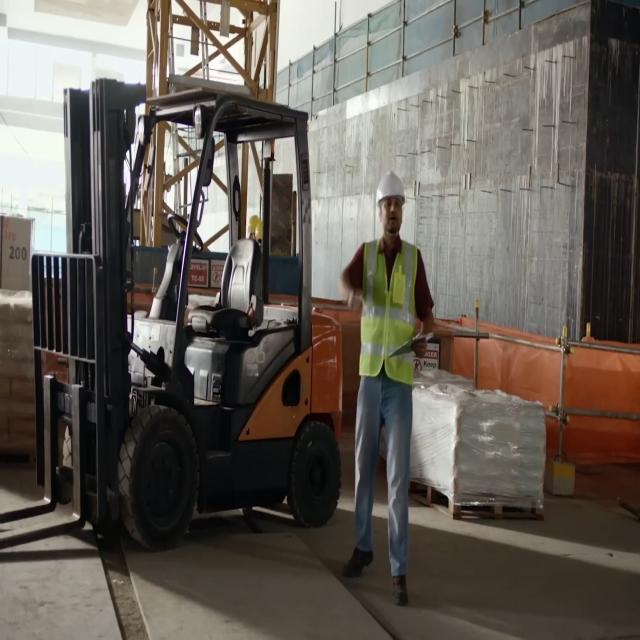Boots: (341, 542, 375, 586), (389, 560, 412, 612)
Helmet: (375, 169, 407, 205)
Vest: (361, 236, 423, 384)
